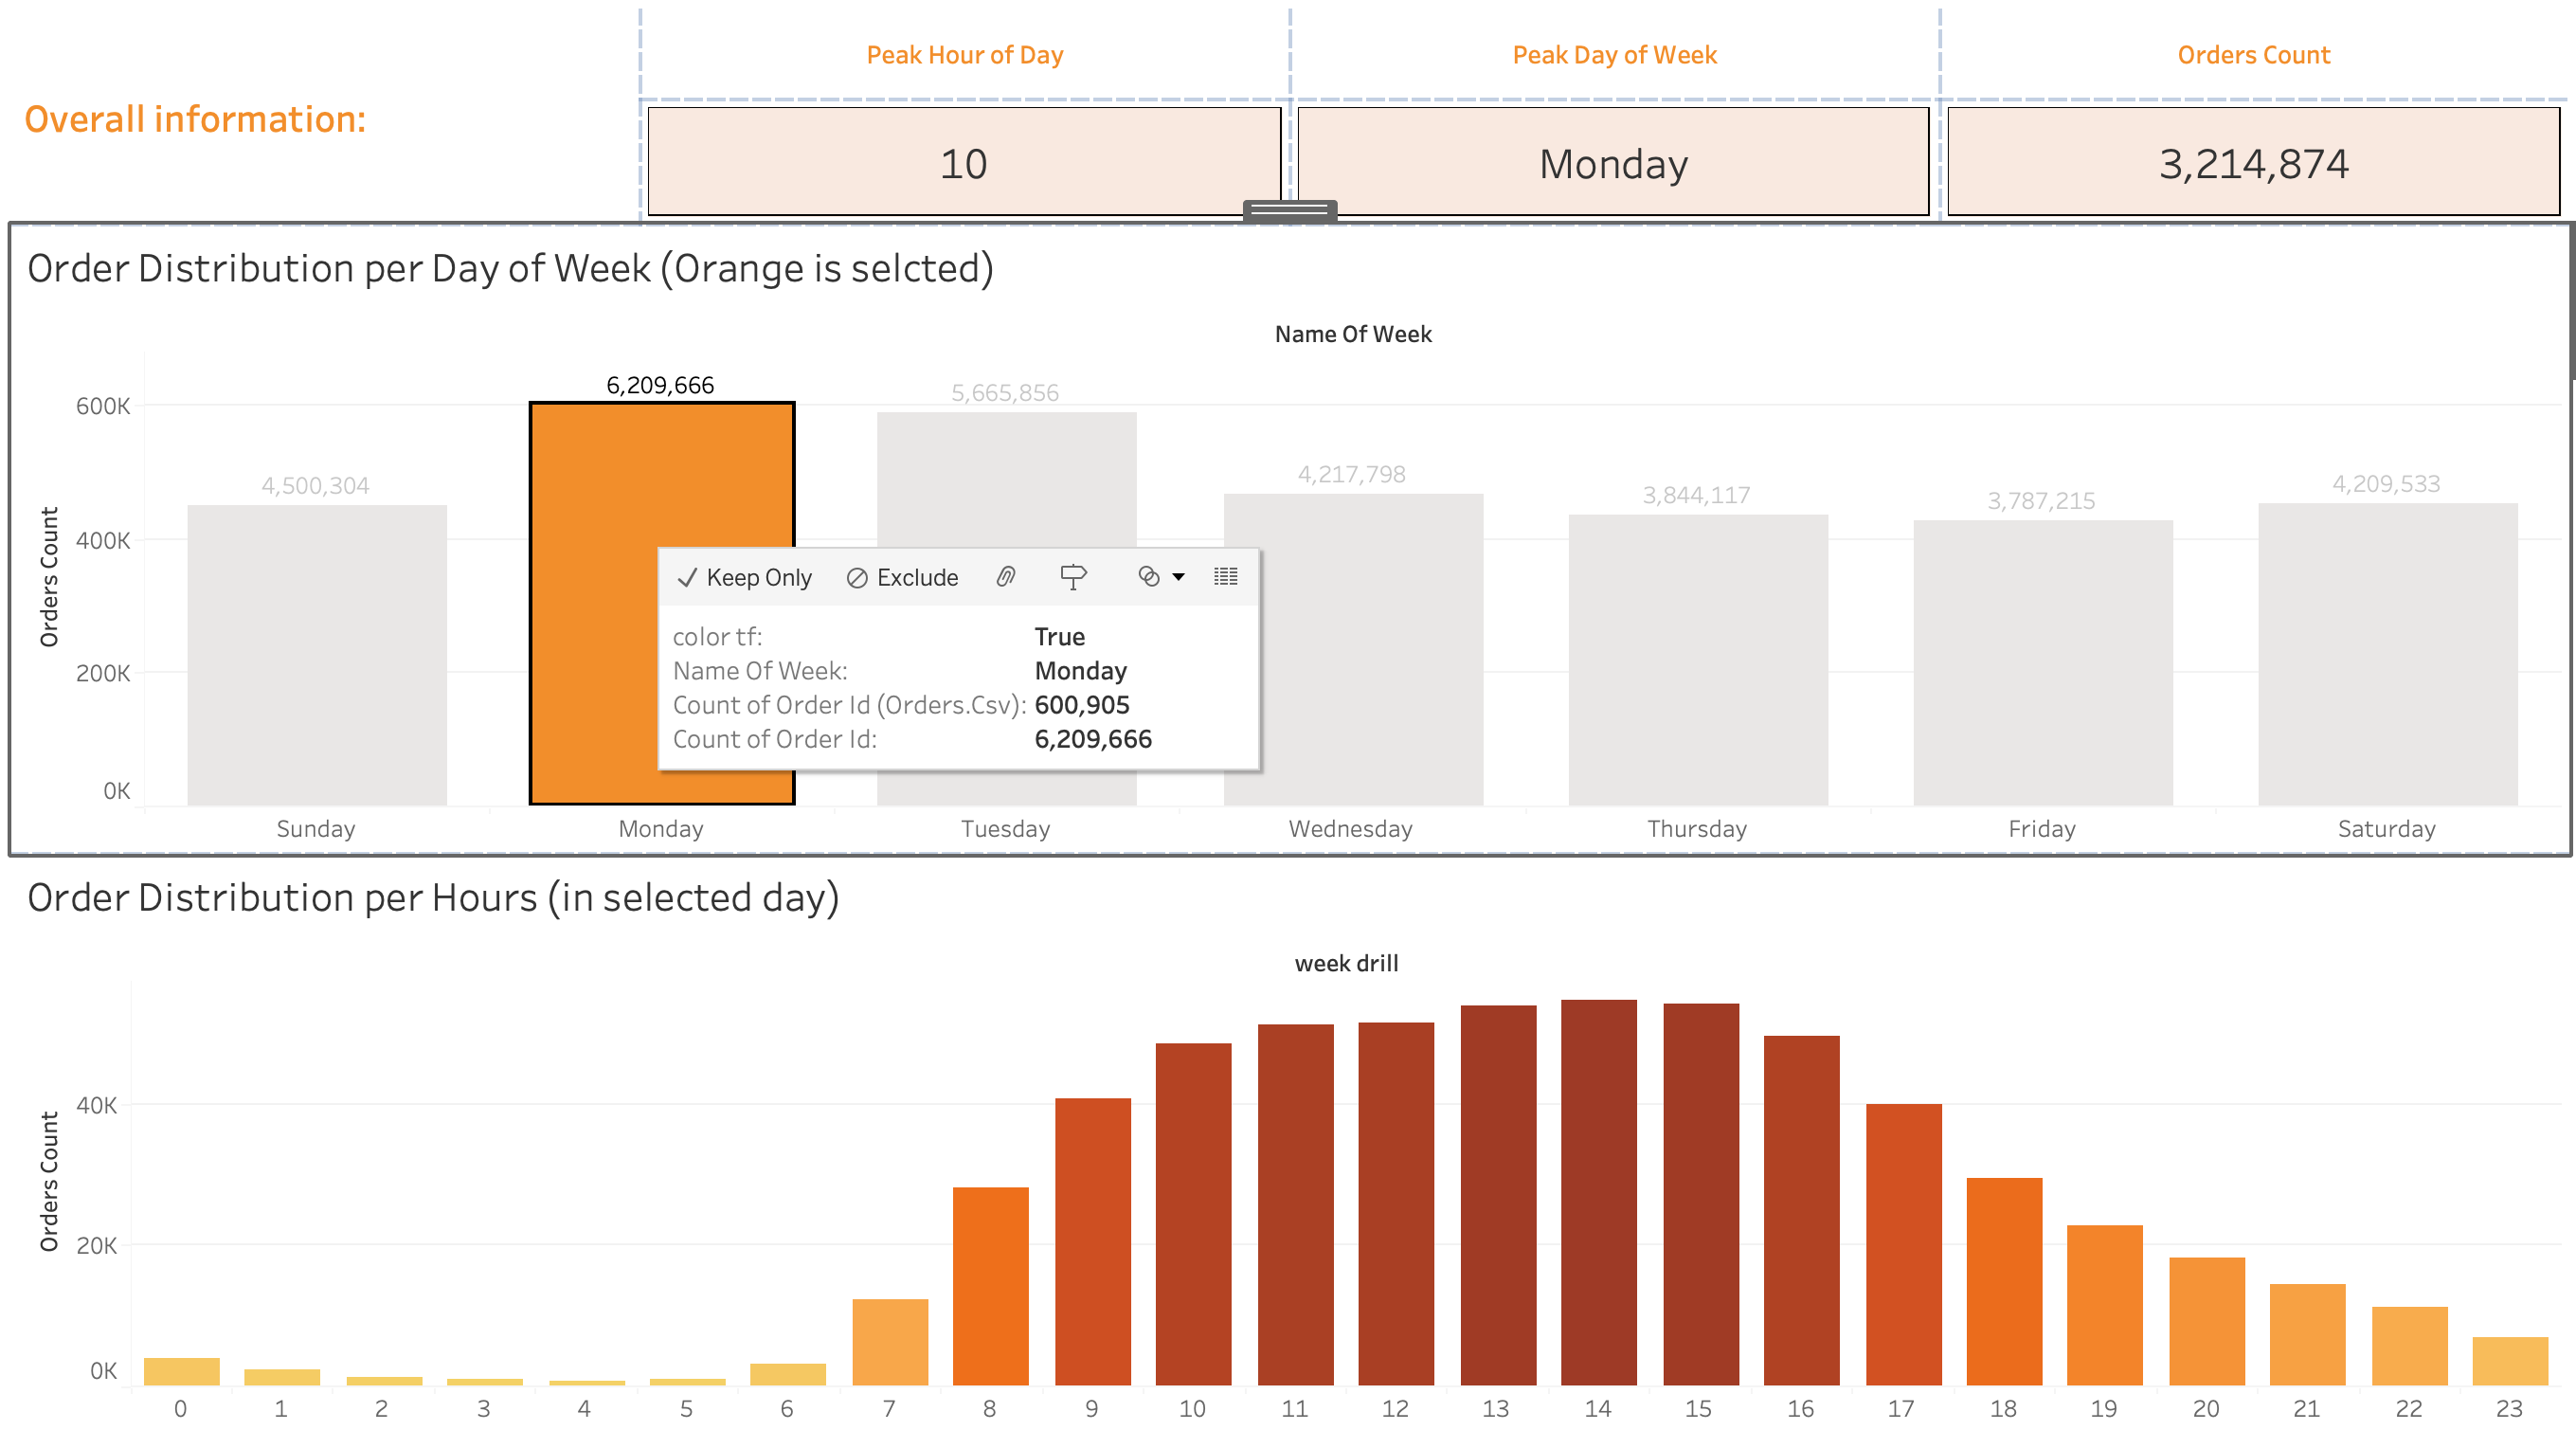

The page's visual inventory and layout, read from the dashboard file:
{"tool":"tableau","page":{"name":"Detail of Orders","canvas":[1366,768],"ordinal":0},"visuals":[{"type":"text","box":[8,8,332,114.1]},{"type":"text","box":[340,8,343,48]},{"type":"text","box":[683,8,343,48]},{"type":"text","box":[1026,8,332,48]},{"type":"worksheet","title":"peak hourr","mark":"Automatic","box":[340,56,343,66.2]},{"type":"worksheet","title":"peak day","mark":"Automatic","box":[683,56,343,66.2]},{"type":"worksheet","title":"count orders","mark":"Automatic","box":[1026,56,332,66.2]},{"type":"worksheet","title":"distribution week","mark":"Automatic","rows":["order_id (orders.csv)"],"cols":["name of week"],"box":[8,122.1,1350,331.9]},{"type":"worksheet","title":"distribution hours","mark":"Automatic","rows":["order_id (orders.csv)"],"cols":["Calculation_653303486100156416"],"box":[8,454,1350,306]}]}

Visuals, with their boxes in screenshot pixels (x1, y1, x2, y2), scaled from the page's 1366x768 canvas onto the 2576x1448 screenshot:
text: l=15, t=15, r=641, b=230
text: l=641, t=15, r=1288, b=105
text: l=1288, t=15, r=1935, b=105
text: l=1935, t=15, r=2561, b=105
"peak hourr" worksheet: l=641, t=105, r=1288, b=230
"peak day" worksheet: l=1288, t=105, r=1935, b=230
"count orders" worksheet: l=1935, t=105, r=2561, b=230
"distribution week" worksheet: l=15, t=230, r=2561, b=856
"distribution hours" worksheet: l=15, t=856, r=2561, b=1433
